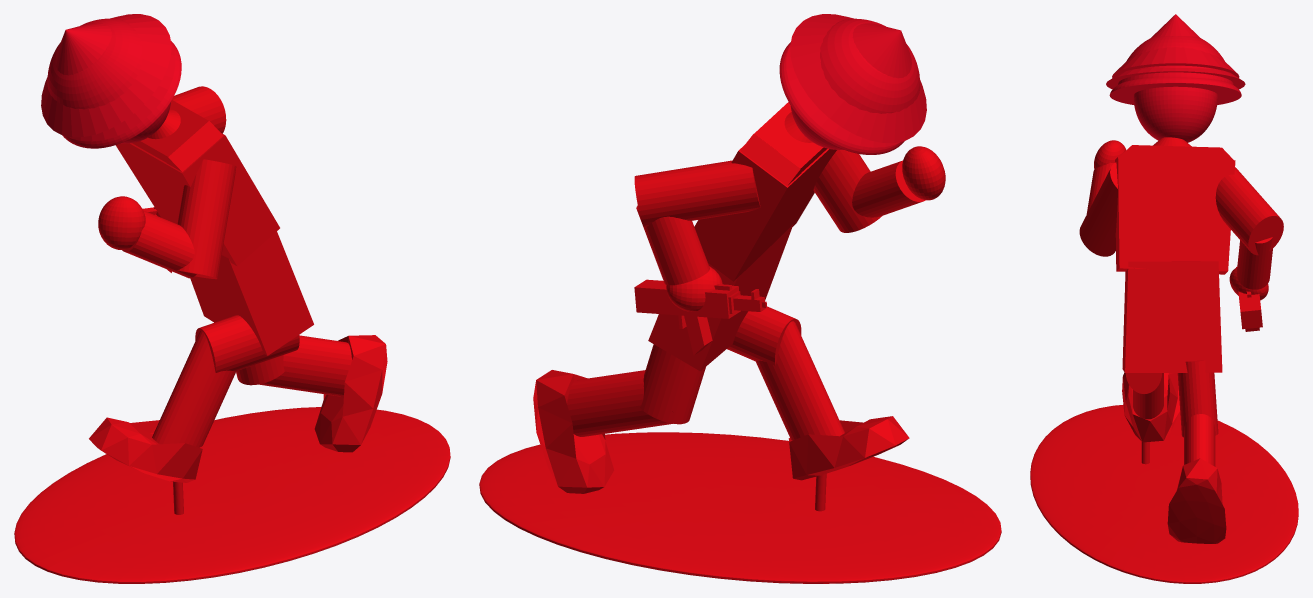
Rendered from toysoldier3(RED).fbx.
3 views of the same model, side by side, from view 1: azimuth 30°, elevation 25°; view 2: azimuth 150°, elevation 25°; view 3: azimuth 270°, elevation 25° (orthographic). The views are drawn at different scales.
Visible parts, largest first — view 1: Cylinder, Cone.003, Cube, Cube.001, Icosphere.001, Cylinder.006, Cylinder.003, Icosphere.006, Cylinder.007, Cylinder.004, Cylinder.002, Sphere.001 (+2 smaller); view 2: Cylinder, Cone.003, Cube, Cylinder.001, Icosphere.001, Cylinder.006, Cylinder.007, Cube.001, Icosphere.006, Cube.007, Cylinder.008, Cylinder.005 (+5 smaller); view 3: Cylinder, Cube, Cube.001, Cone.003, Icosphere.001, Cylinder.001, Cylinder.003, Icosphere.006, Cylinder.008, Cylinder.005, Cylinder.007, Cylinder.006 (+5 smaller).
Part boxes in pixels (x1,y1,x2,y2): Cylinder: (14, 407, 450, 583); Cone.003: (41, 14, 181, 148); Cube: (115, 100, 279, 266); Cube.001: (190, 231, 313, 355); Icosphere.001: (314, 335, 387, 452); Cylinder.006: (152, 330, 236, 447); Cylinder.003: (177, 159, 236, 279); Icosphere.006: (89, 417, 203, 482); Cylinder.007: (259, 335, 351, 396); Cylinder.004: (195, 315, 299, 372); Cylinder.002: (122, 210, 196, 278); Sphere.001: (98, 196, 145, 249); Cylinder: (479, 432, 1001, 583); Cone.003: (779, 14, 926, 154); Cube: (694, 102, 836, 281); Cylinder.001: (634, 160, 760, 228); Icosphere.001: (533, 370, 614, 493); Cylinder.006: (755, 321, 844, 440); Cylinder.007: (567, 370, 672, 436); Cube.001: (648, 224, 793, 371); Icosphere.006: (788, 416, 909, 480); Cube.007: (634, 279, 766, 355); Cylinder.008: (640, 344, 705, 424); Cylinder.005: (636, 205, 709, 285); Cylinder: (1030, 405, 1298, 583); Cube: (1115, 145, 1235, 274); Cube.001: (1122, 261, 1222, 372); Cone.003: (1106, 14, 1245, 142); Icosphere.001: (1167, 458, 1226, 543); Cylinder.001: (1215, 167, 1283, 255); Cylinder.003: (1079, 162, 1117, 256); Icosphere.006: (1122, 372, 1180, 442); Cylinder.008: (1177, 360, 1218, 437); Cylinder.005: (1236, 237, 1272, 289); Cylinder.007: (1184, 414, 1215, 466); Cylinder.006: (1133, 373, 1163, 419).
Bounding box in the file's own units: 404 × 445 × 258.
